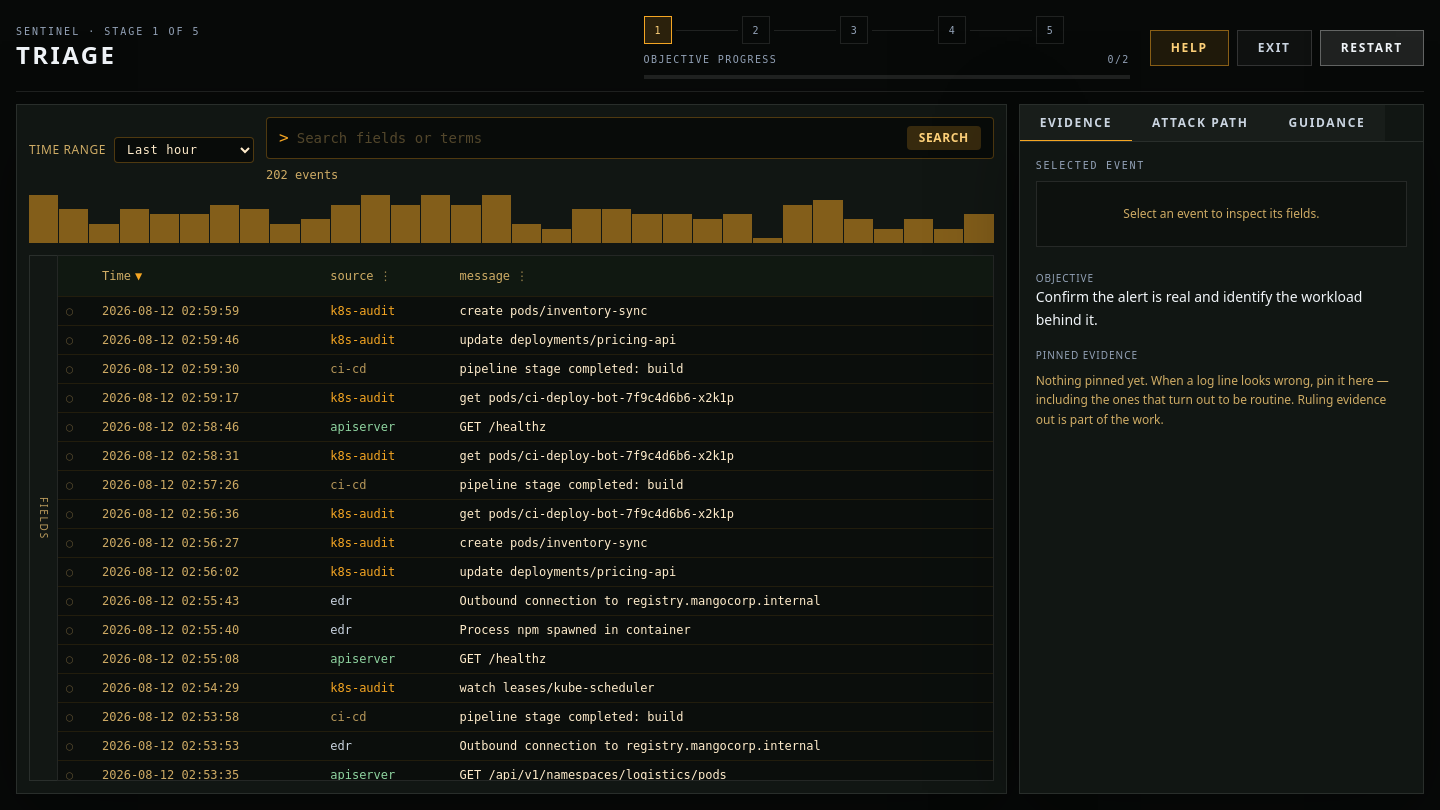
it: MissionPage Sentinel workspace › uses exactly Evidence, Attack Path, and Guidance context tabs and no query chips
The width and height of the screenshot is (1440, 810).
Expected: the element named "case file" is shown, [1036,271,1407,429]
Click the tab "Attack Path". click: (1200, 123)
box: [1132,105,1269,141]
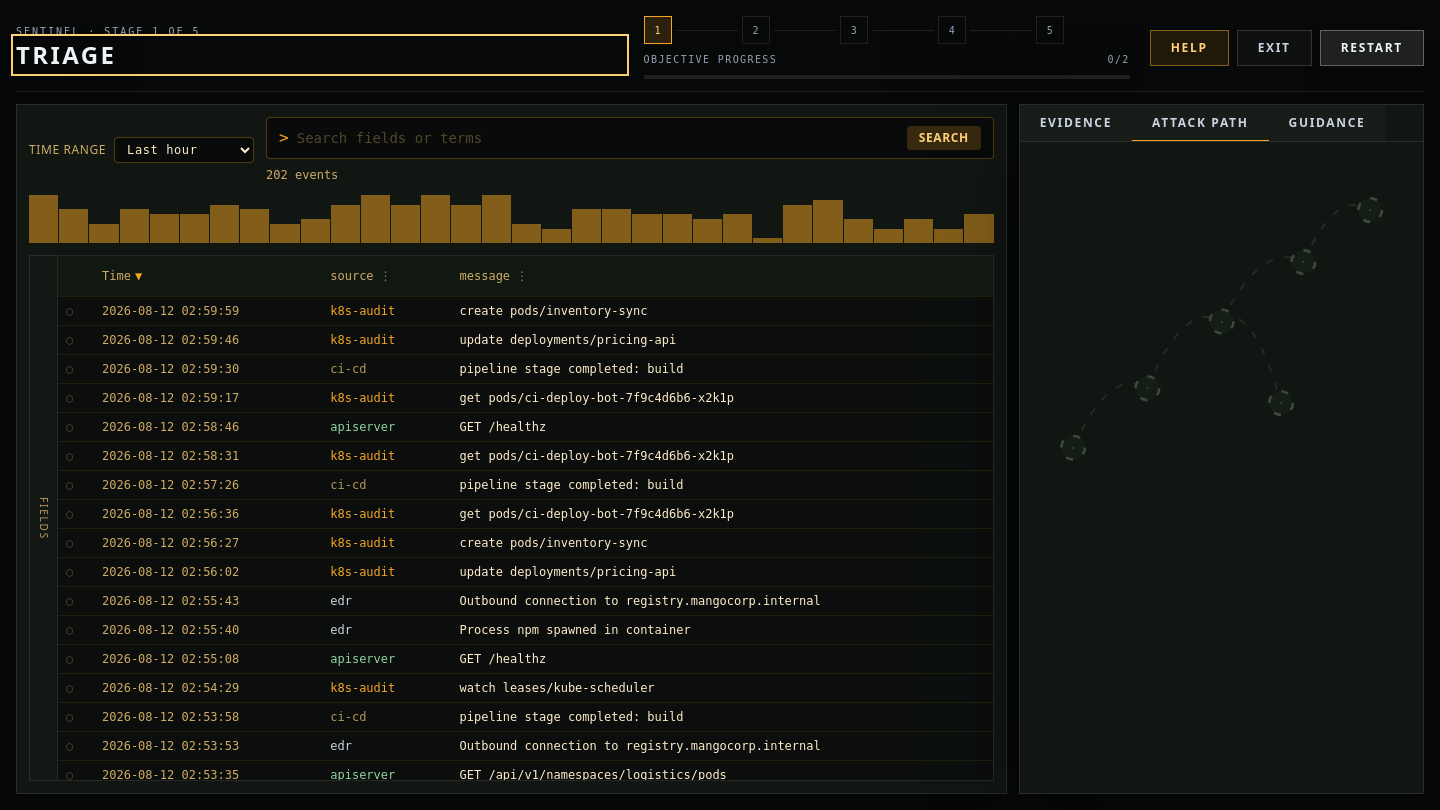
Now the element named "attack path map" is shown, box [1036,158,1407,529]
